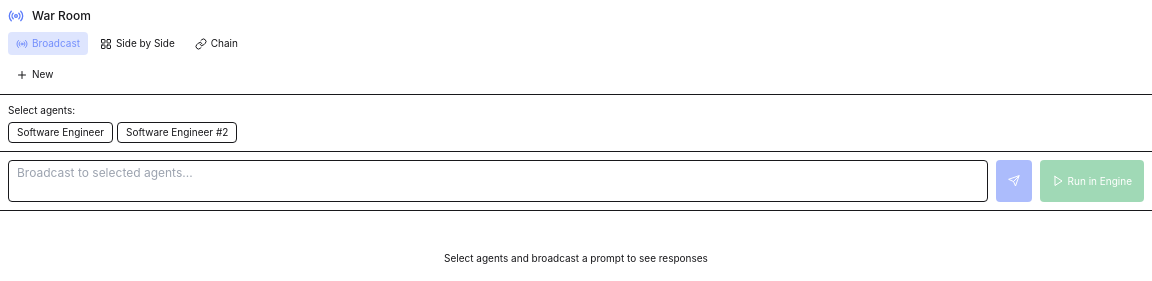
Test: WarRoom › broadcast view — sending › enables the send button when agent is selected and prompt is filled
Click the button "Software Engineer" at (60, 132), box [8, 122, 113, 143]
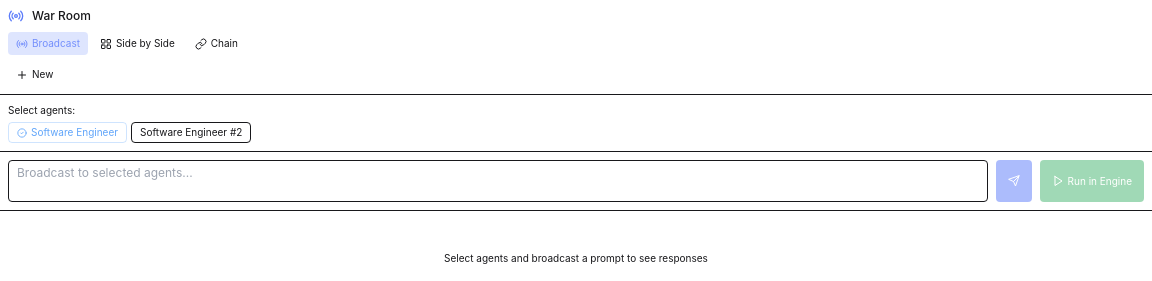
Type "Hello agents" into the text box with placeholder "Broadcast to selected agents..." at (498, 181), box [8, 160, 988, 202]
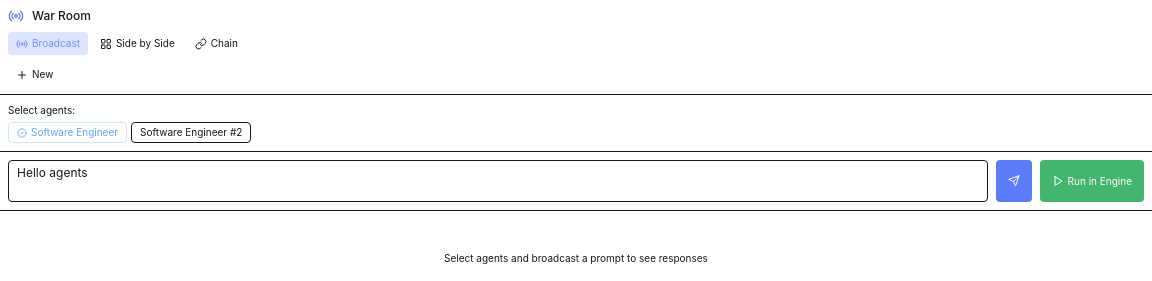
Now the button named "Broadcast (stub responses)" is enabled, box [996, 160, 1032, 202]
